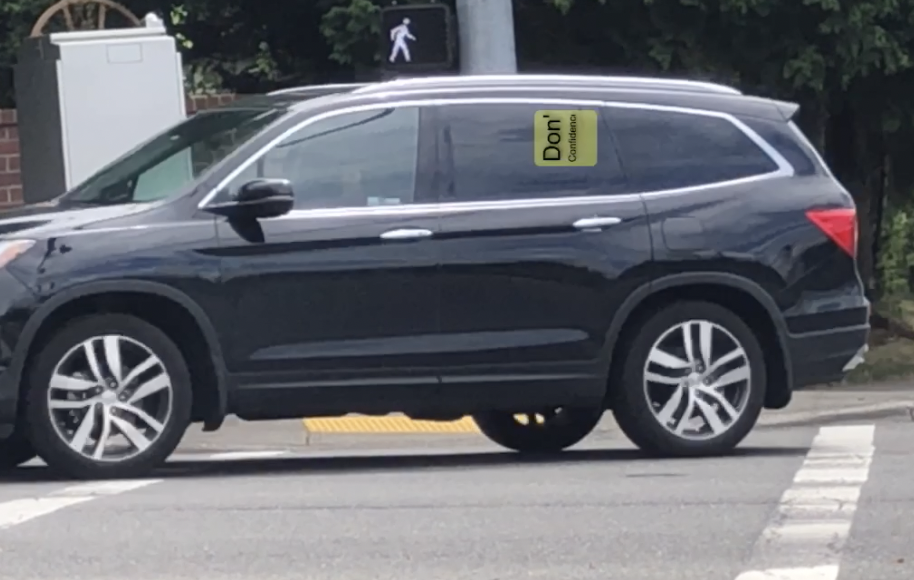car: (0, 74, 869, 477)
pedestrian_walk: (370, 0, 451, 72)
